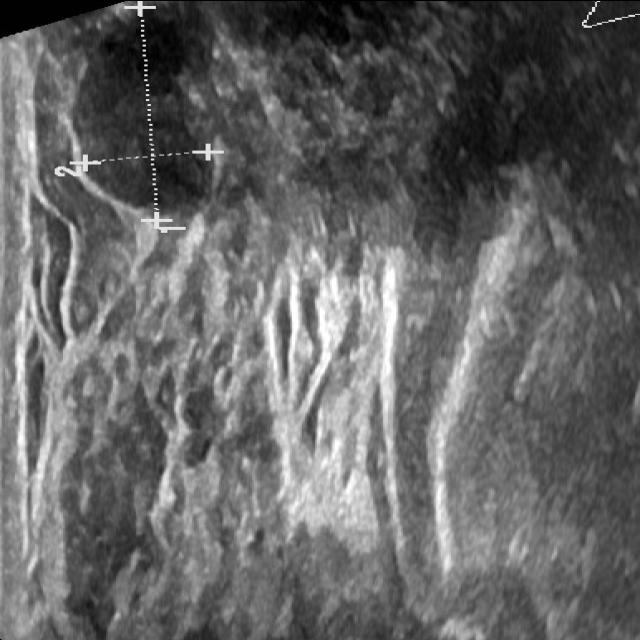Benign: (68, 53, 208, 209)
